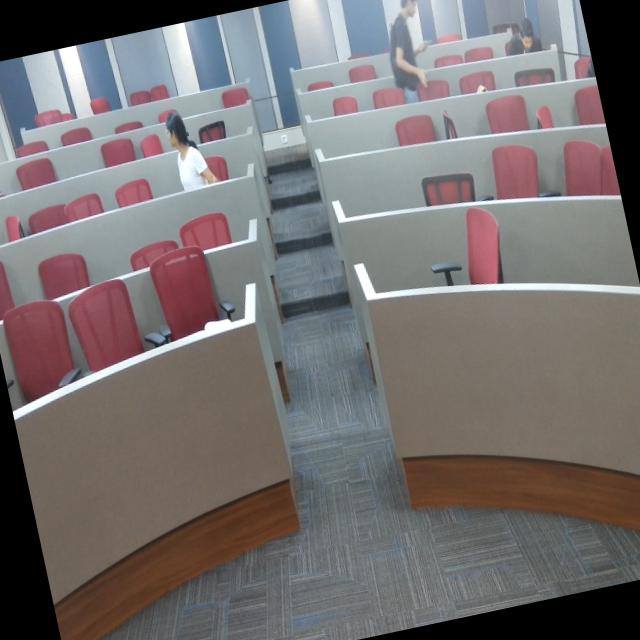cheating: (158, 100, 227, 210)
non-cheating: (493, 0, 543, 69)
